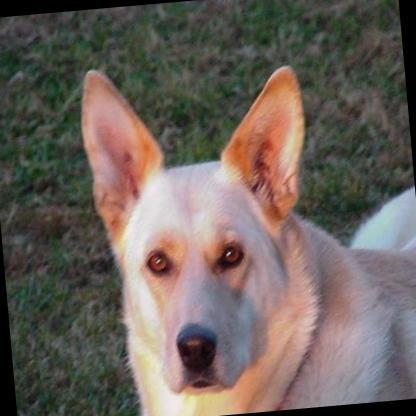dingo: (60, 35, 416, 416)
